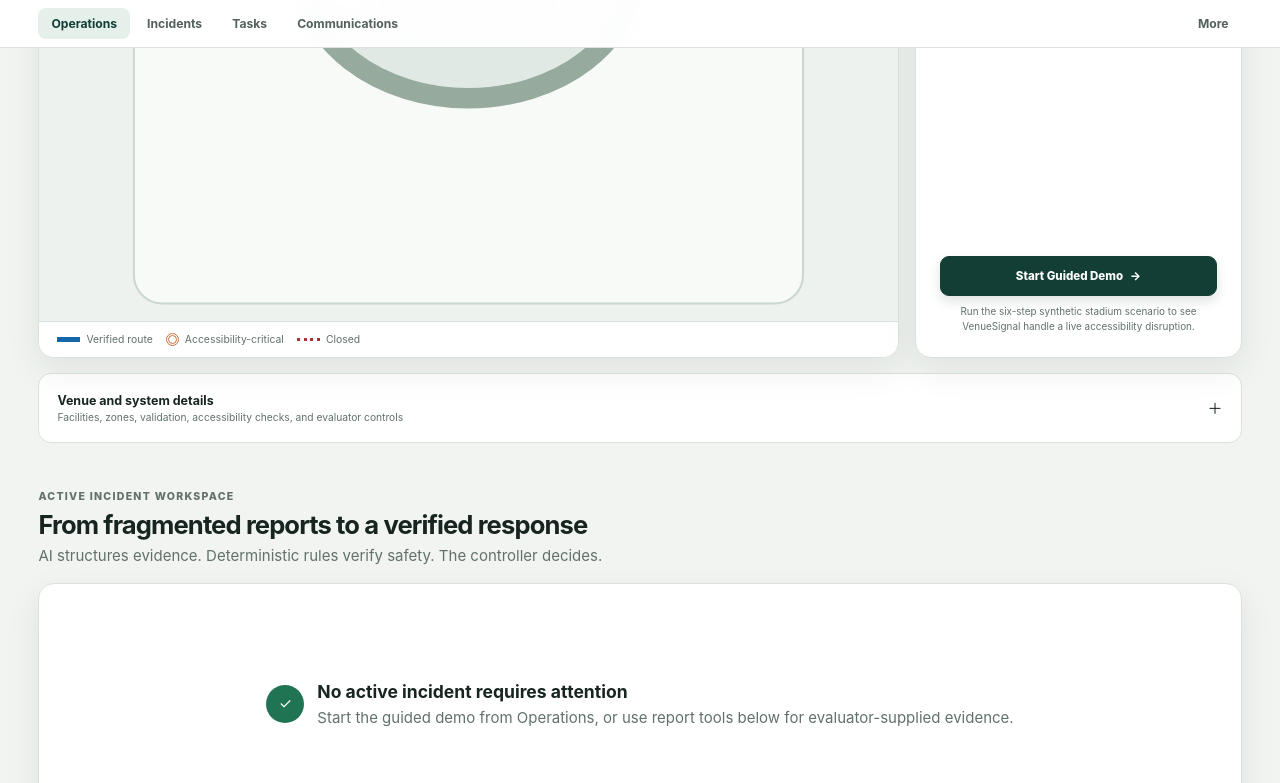
Scenario: VenueSignal frontend experience › renders the calm operational overview and keeps technical detail progressive
(page scrolled)
Expected: the text "Validated safety graph" is not shown
Click the text "Venue and system details" at (136, 400), box 57,393 -> 214,408
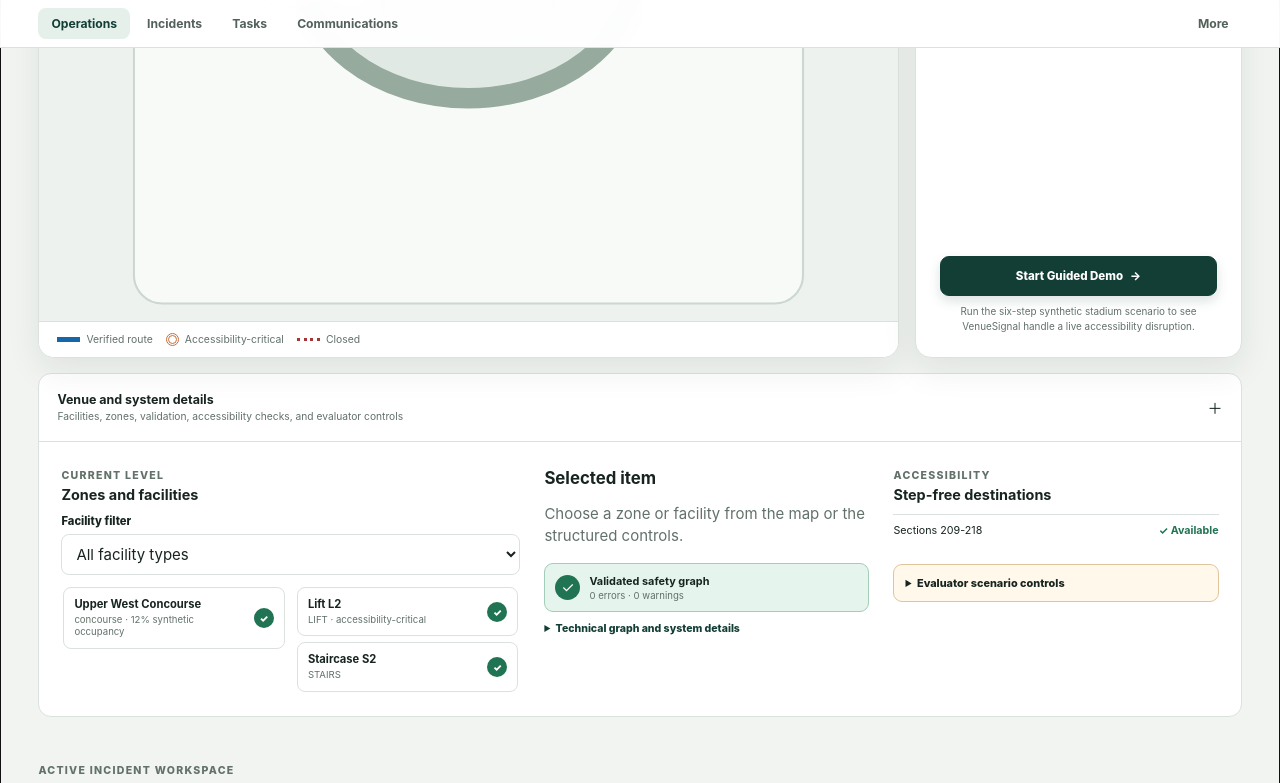
Expected: the text "Components" is not shown
Result: the text "Validated safety graph" is shown at 589,574 -> 710,588
Click the heading "Technical graph and system details" at (642, 628), box 544,622 -> 740,635
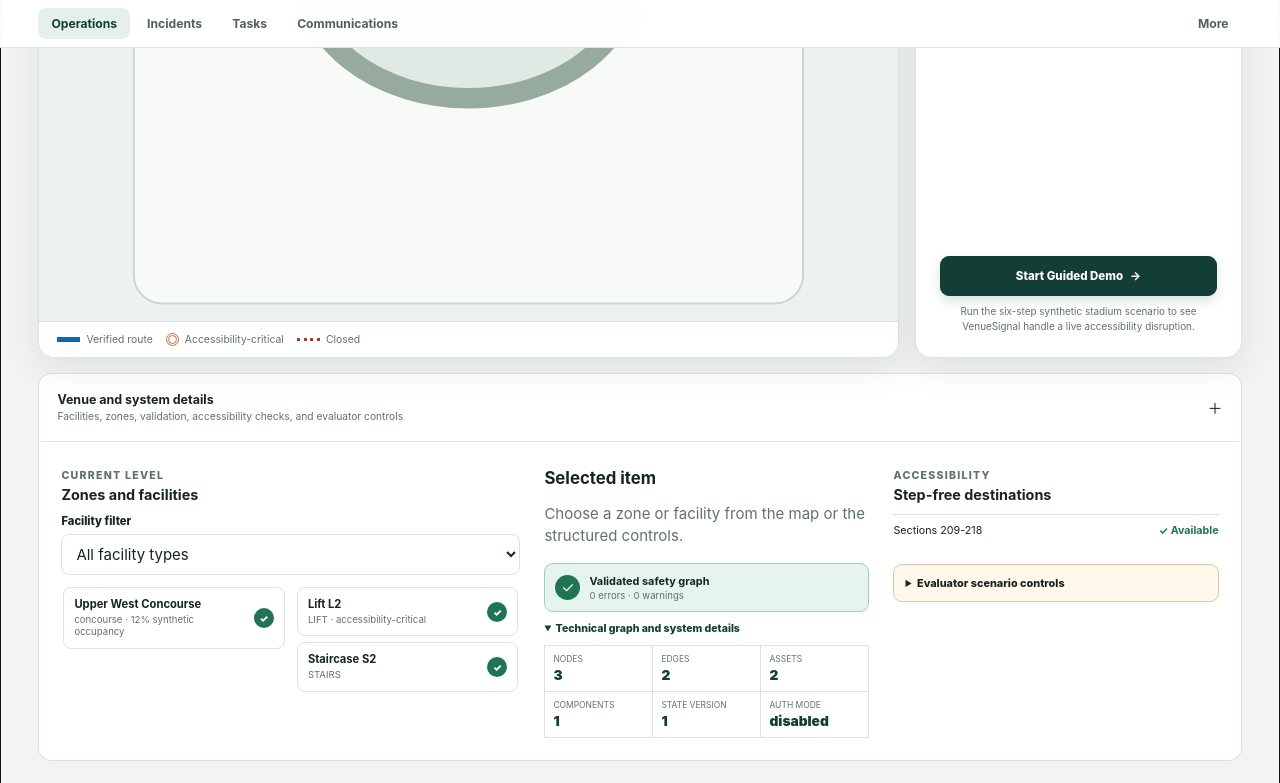
Result: the text "Components" is shown at 553,700 -> 614,710
Result: the text "Auth mode" is shown at 769,700 -> 821,710
